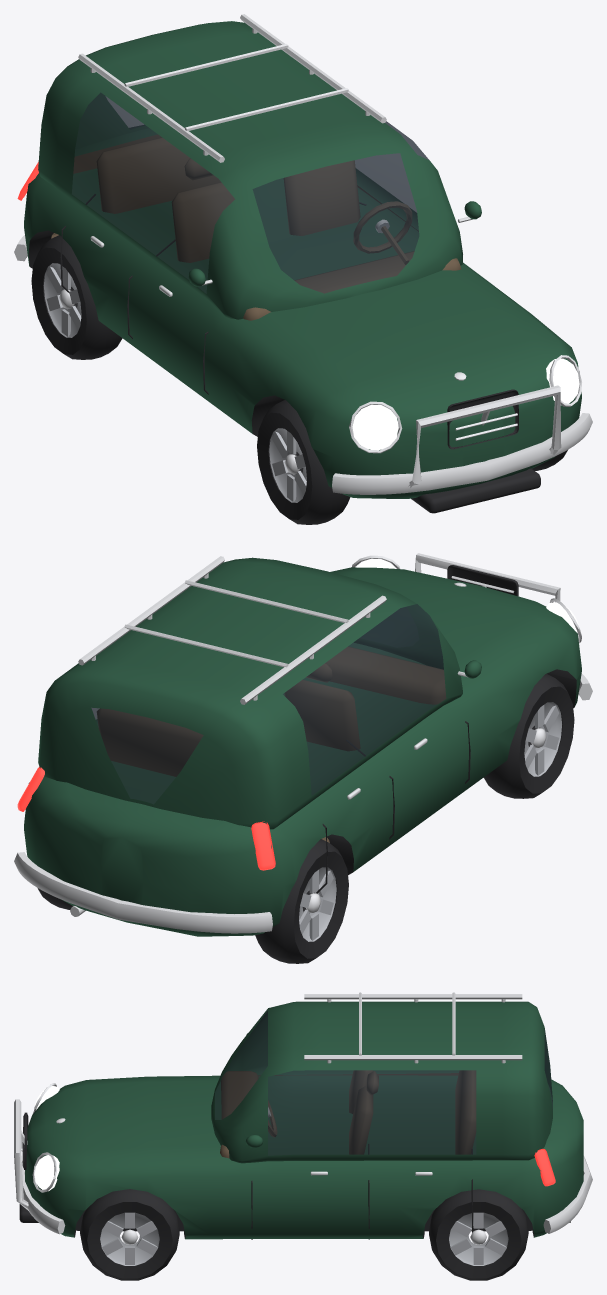
The model's file is suv.glb.
The picture shows the model from 3 angles, top to bottom: view 1: azimuth 30°, elevation 25°; view 2: azimuth 150°, elevation 25°; view 3: azimuth 270°, elevation 25°; orthographic projection. The views are drawn at different scales.
Visible parts, largest first — view 1: body, wheel_FR_mesh, wheel_RR_mesh; view 2: body, wheel_RR_mesh, wheel_FR_mesh; view 3: body, wheel_FL_mesh, wheel_RL_mesh.
Boxes of the visible parts, left/top/right/bottom form: body: left=14, top=14, right=592, bottom=513; wheel_FR_mesh: left=257, top=400, right=350, bottom=524; wheel_RR_mesh: left=31, top=235, right=122, bottom=359; body: left=14, top=553, right=592, bottom=936; wheel_RR_mesh: left=255, top=839, right=348, bottom=963; wheel_FR_mesh: left=483, top=674, right=574, bottom=798; body: left=14, top=992, right=592, bottom=1239; wheel_FL_mesh: left=80, top=1189, right=179, bottom=1280; wheel_RL_mesh: left=429, top=1189, right=528, bottom=1280.
Bounding box in the file's own units: 2.07 × 1.88 × 4.65.
